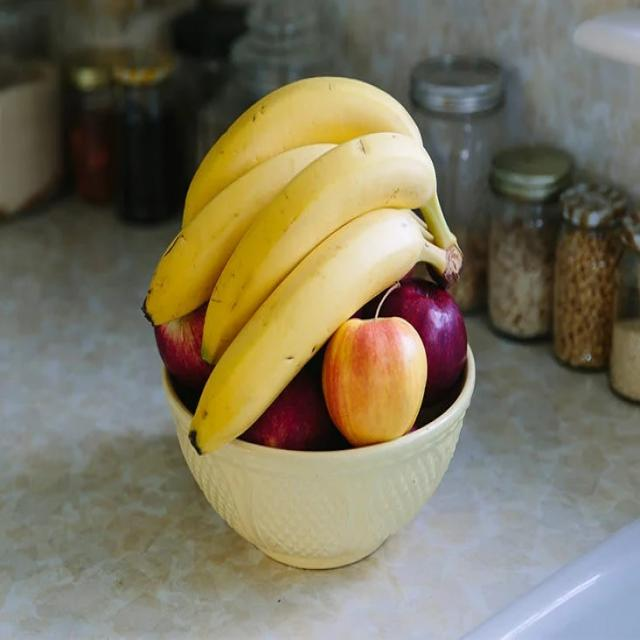banana: (145, 77, 455, 469), (180, 77, 421, 223)
